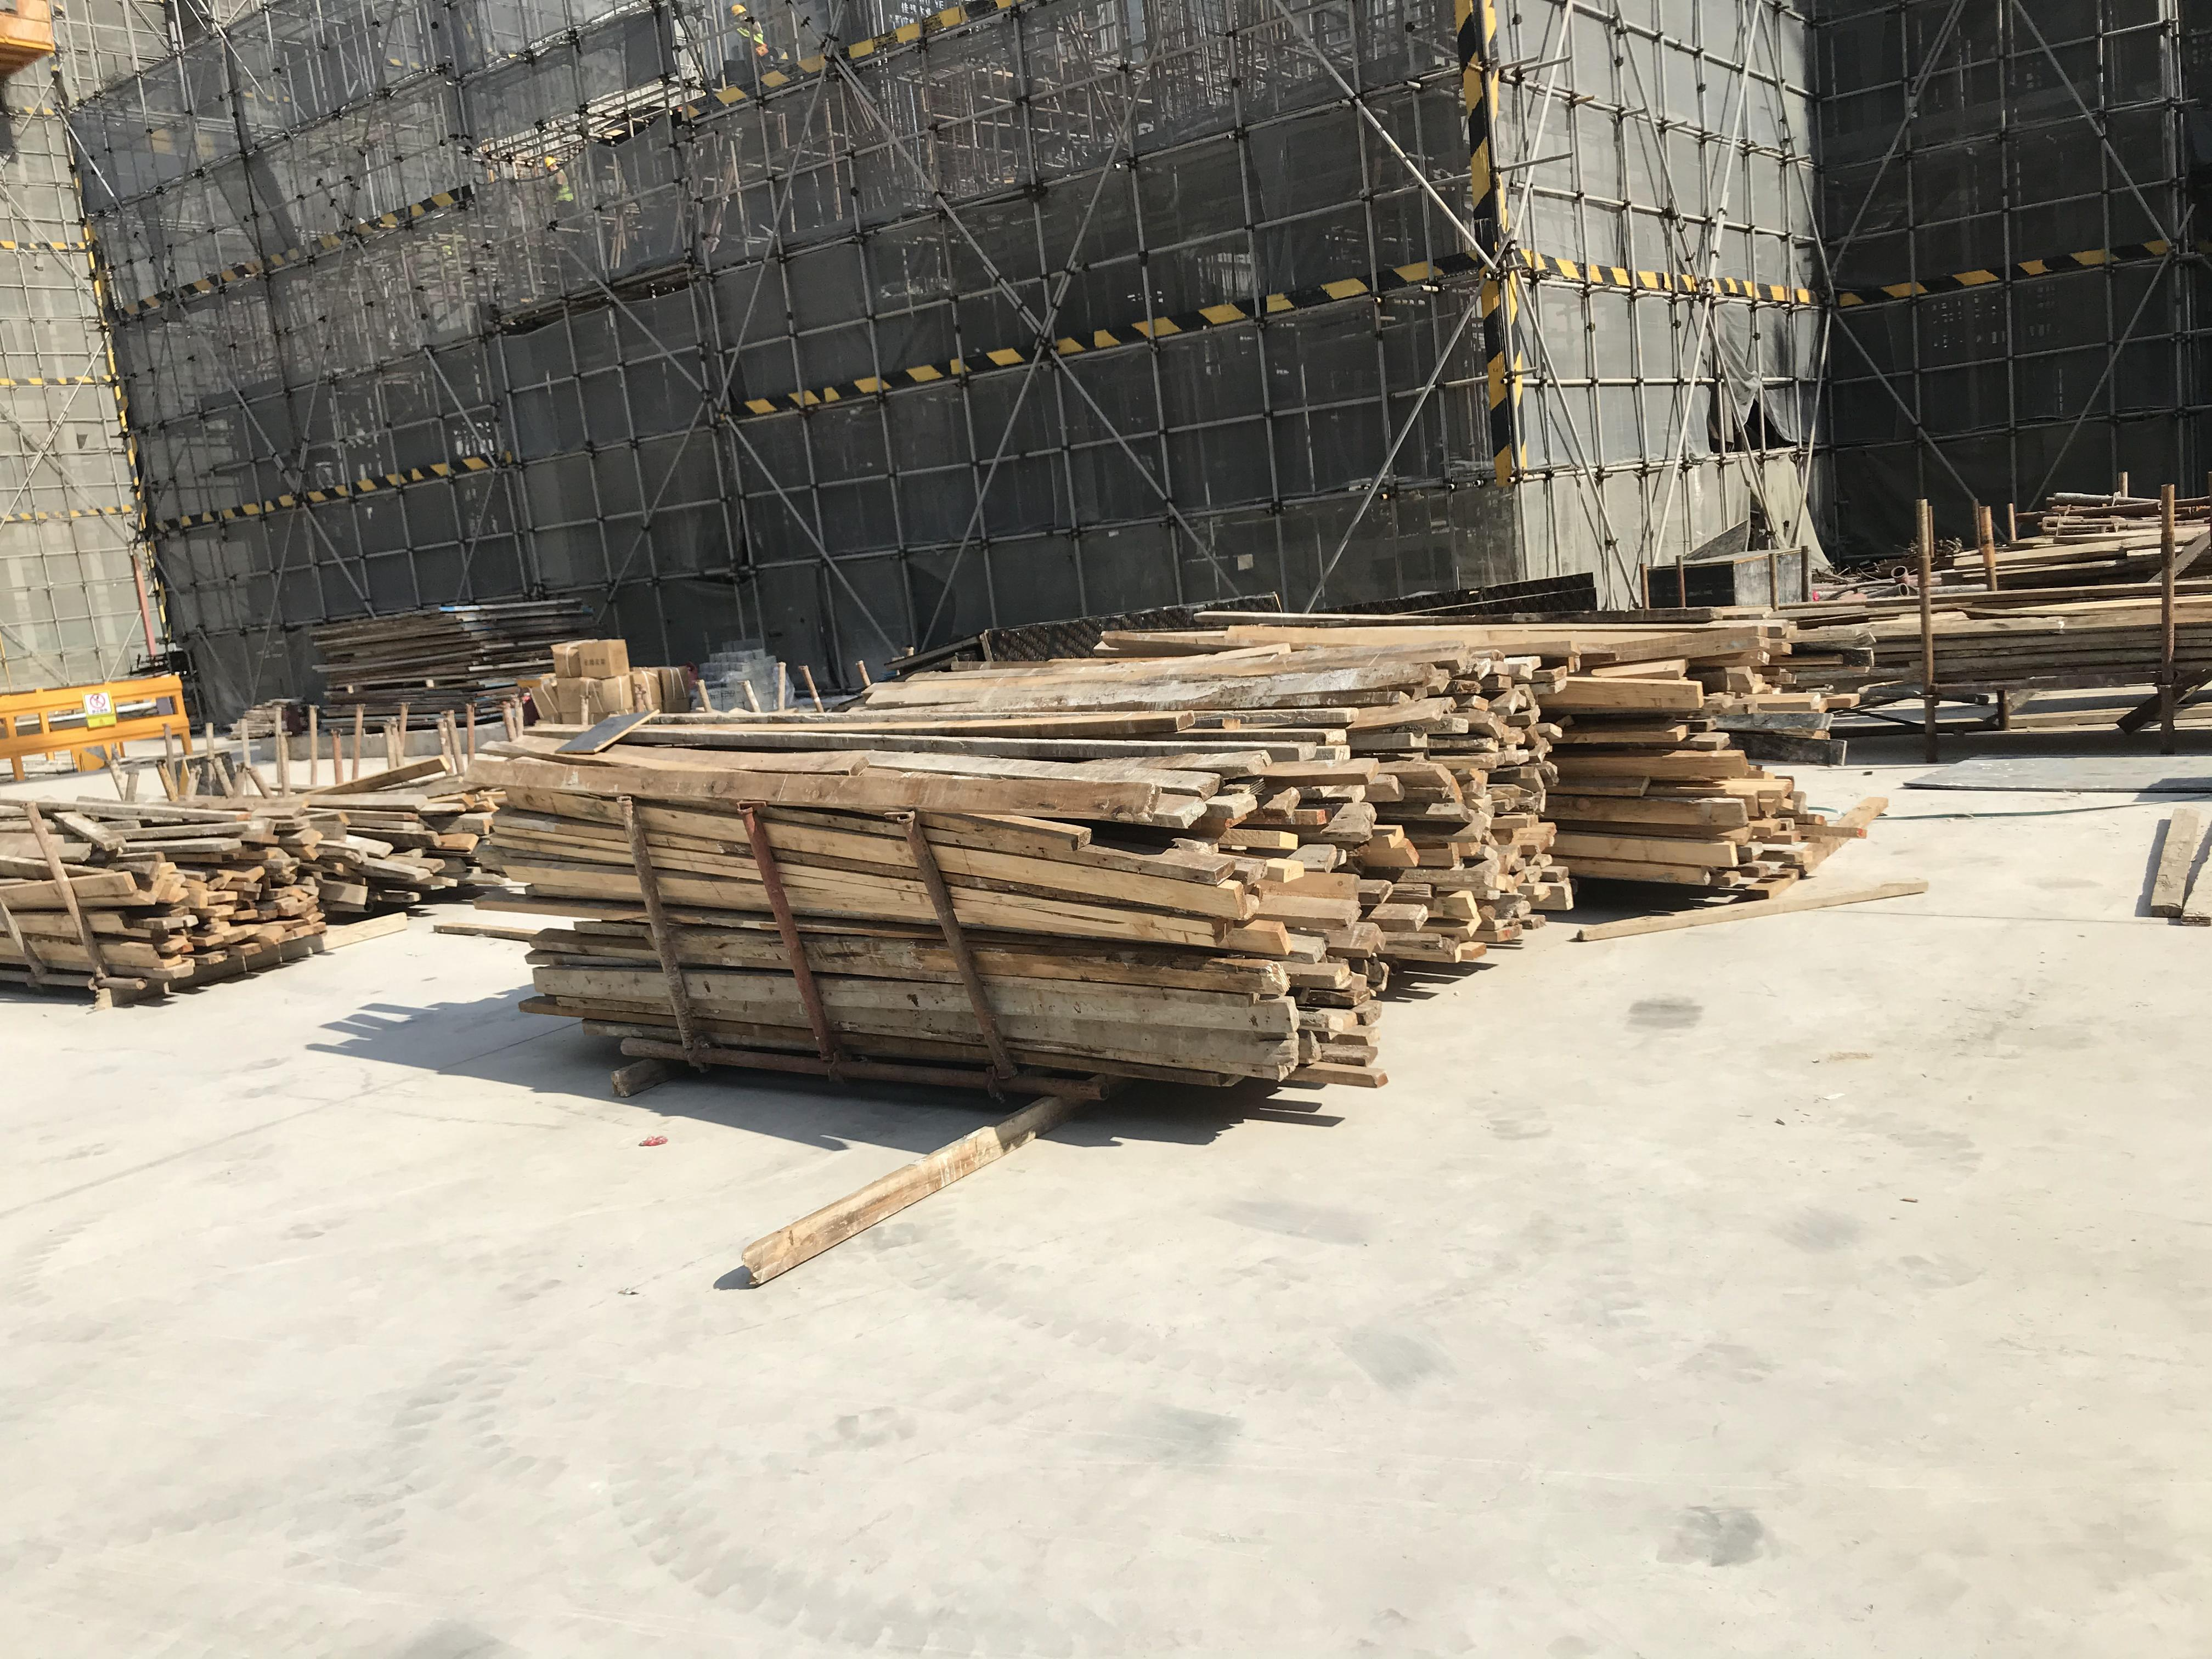board: (315, 598, 590, 723)
wood: (486, 622, 1804, 1096), (0, 784, 329, 1004), (1808, 587, 2212, 687), (324, 765, 484, 920)
